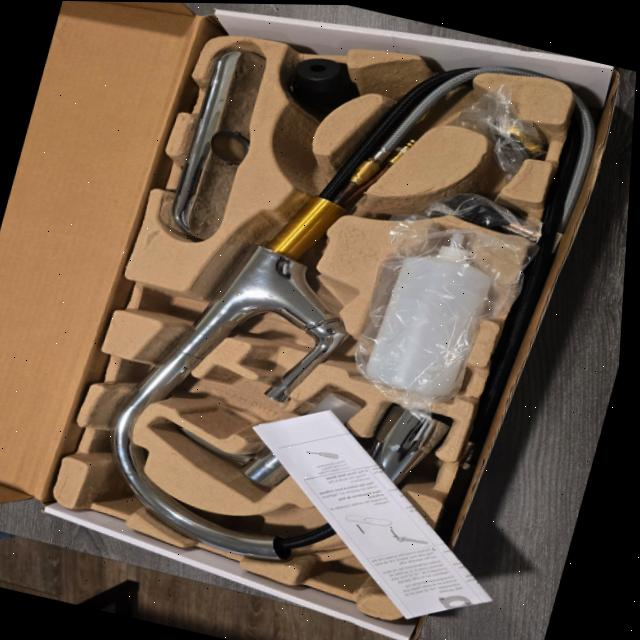1o: (111, 67, 476, 558)
2o: (170, 389, 362, 485)
3: (365, 231, 489, 397)
4: (173, 48, 260, 239)
5: (287, 56, 355, 115)
6: (459, 84, 541, 166)
7: (422, 191, 536, 239)
8: (247, 409, 491, 620)
